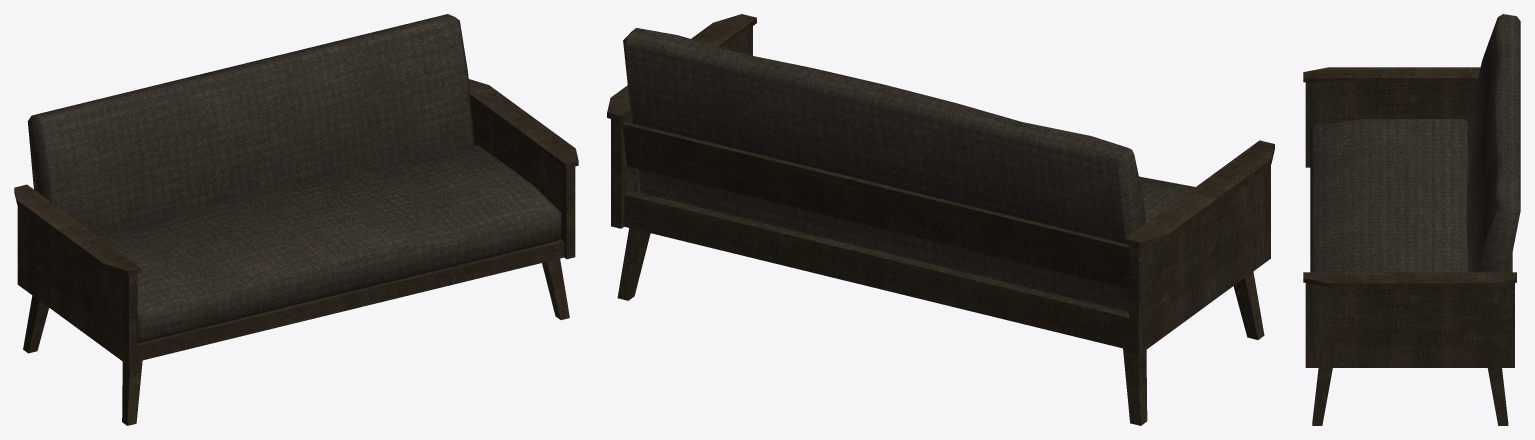
Rendered from sofa_4_3.glb.
The picture shows the model from 3 angles, left to right: view 1: azimuth 30°, elevation 25°; view 2: azimuth 150°, elevation 25°; view 3: azimuth 270°, elevation 25°; orthographic projection. The views are drawn at different scales.
Parts seen in each view (by area): view 1: sofa_4_3; view 2: sofa_4_3; view 3: sofa_4_3.
Part boxes in pixels (left/top/right/bottom): sofa_4_3: left=14, top=14, right=578, bottom=425; sofa_4_3: left=607, top=14, right=1274, bottom=425; sofa_4_3: left=1303, top=14, right=1520, bottom=425.
Bounding box in the file's own units: 2.2 × 1.03 × 0.9346.
2 materials, 2 textured.
